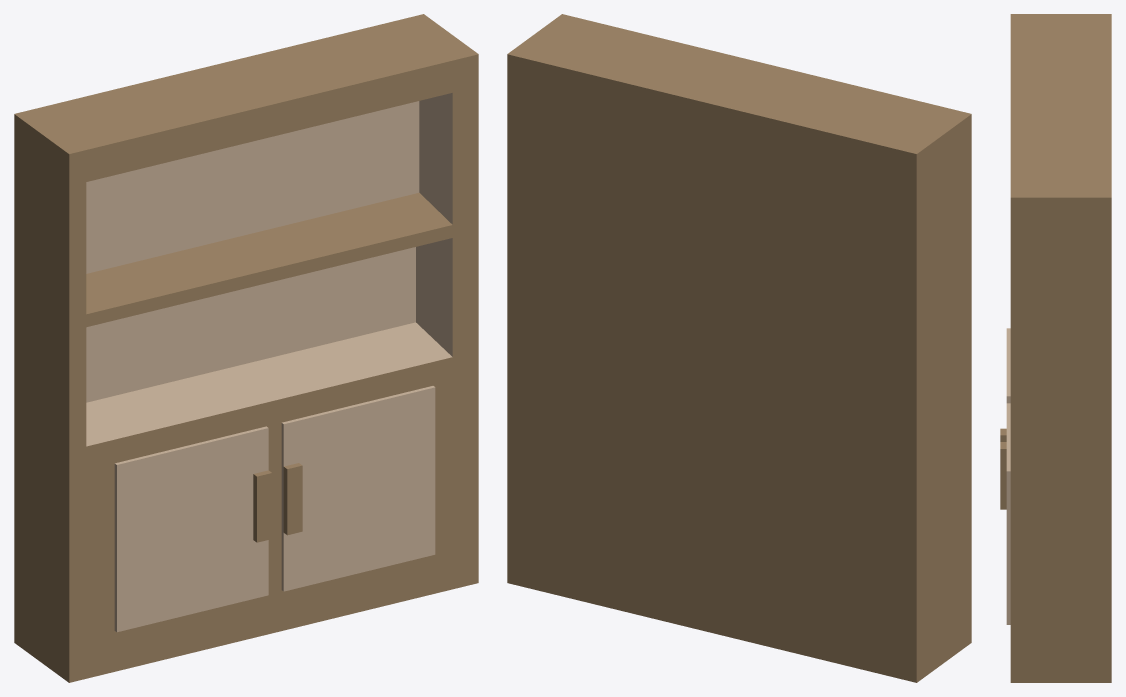
File: Shelves.fbx
3 renders of one model, left to right at view 1: azimuth 30°, elevation 25°; view 2: azimuth 150°, elevation 25°; view 3: azimuth 270°, elevation 25°, orthographic. The views are drawn at different scales.
Parts seen in each view (by area): view 1: Cube; view 2: Cube; view 3: Cube.
Part boxes in pixels (x1,y1,x2,y2): Cube: (14, 14, 478, 682); Cube: (507, 14, 971, 682); Cube: (1000, 14, 1111, 682).
Size of the model in its own units: 302 by 373 by 77.63.
